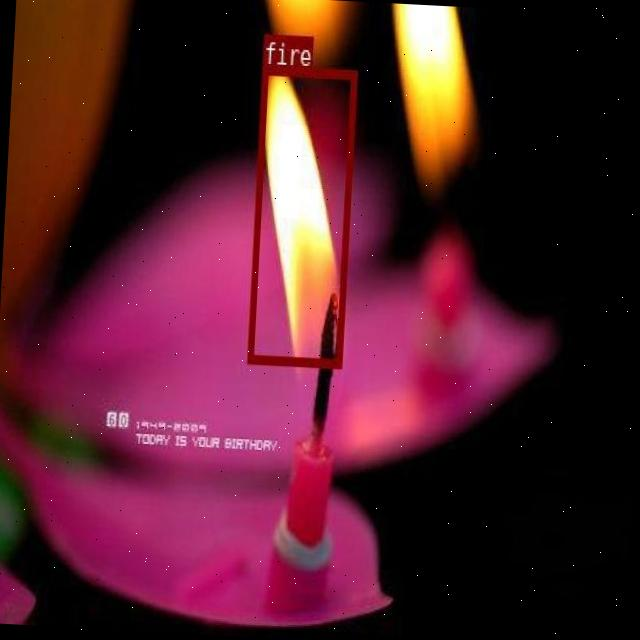fire: (247, 65, 357, 368)
